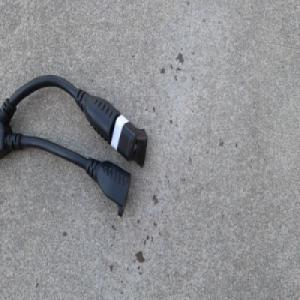Wire: (0, 73, 148, 219)
